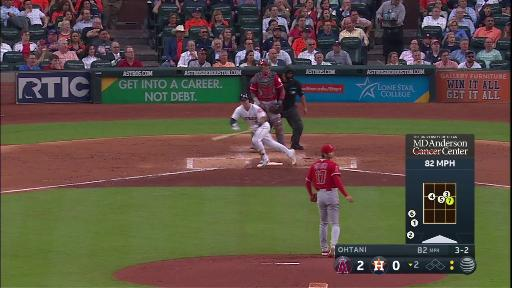pitcher: (305, 145, 356, 256)
